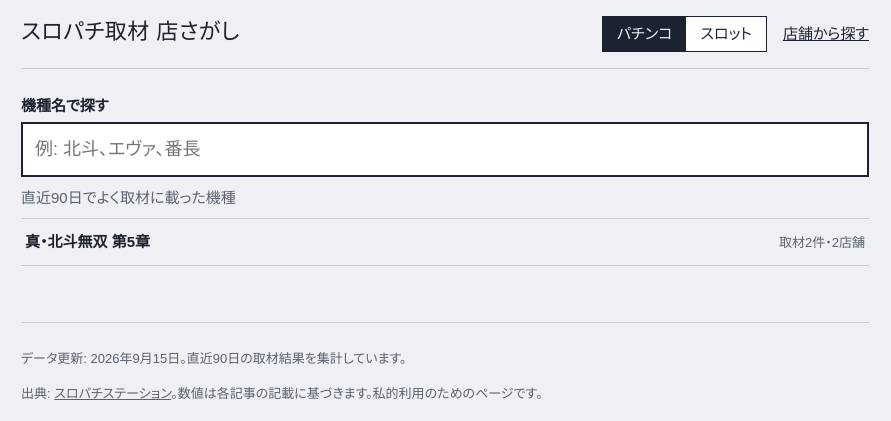
Scenario: App › 店舗から探すビュー
The image size is (891, 421).
Check: the option "真・北斗無双 第5章 取材2件・2店舗" is shown, box [21, 219, 869, 266]
Click the button "店舗から探す" at {"x": 826, "y": 34}, box [783, 21, 869, 46]
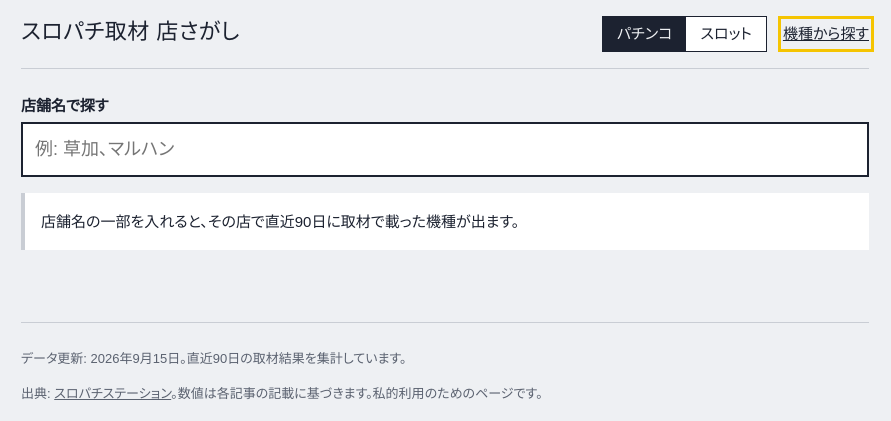
Type "A" into the search field labelled "店舗名で探す" at {"x": 445, "y": 149}, box [21, 122, 869, 177]
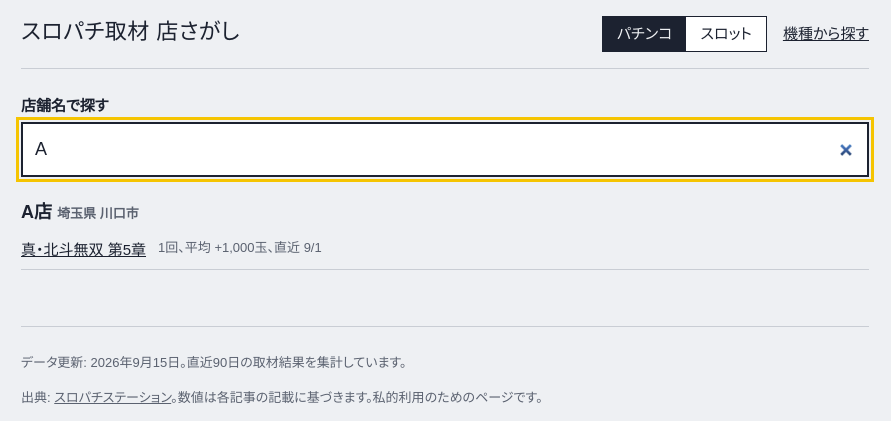
Check: the button "真・北斗無双 第5章" is shown, box [21, 237, 146, 263]
